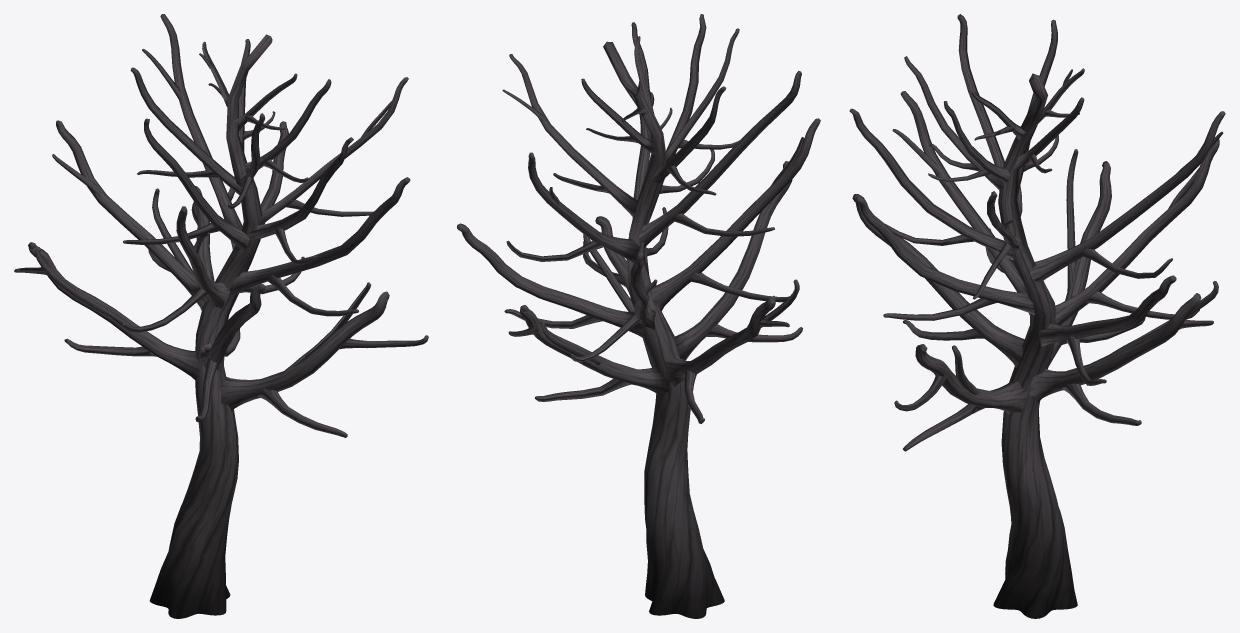
Rendered from DeadTree_1.gltf.
The picture shows the model from 3 angles, left to right: view 1: azimuth 30°, elevation 25°; view 2: azimuth 150°, elevation 25°; view 3: azimuth 270°, elevation 25°; orthographic projection. The views are drawn at different scales.
Visible parts, largest first — view 1: DeadTree_1; view 2: DeadTree_1; view 3: DeadTree_1.
Boxes of the visible parts, <box> form: DeadTree_1: <box>14,14,428,618</box>; DeadTree_1: <box>457,14,820,618</box>; DeadTree_1: <box>849,14,1225,618</box>.
Size of the model in its own units: 6.15 by 9.5 by 5.75.
1 material, 1 textured.
